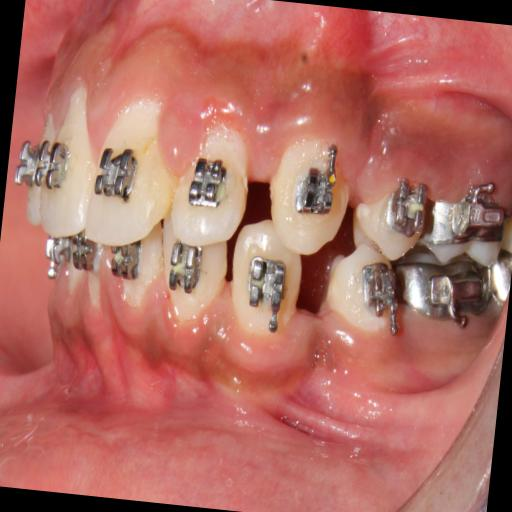correct_brace: (287, 144, 344, 223), (91, 139, 146, 203), (186, 152, 240, 214)
incorrect_brace: (168, 118, 260, 249)
